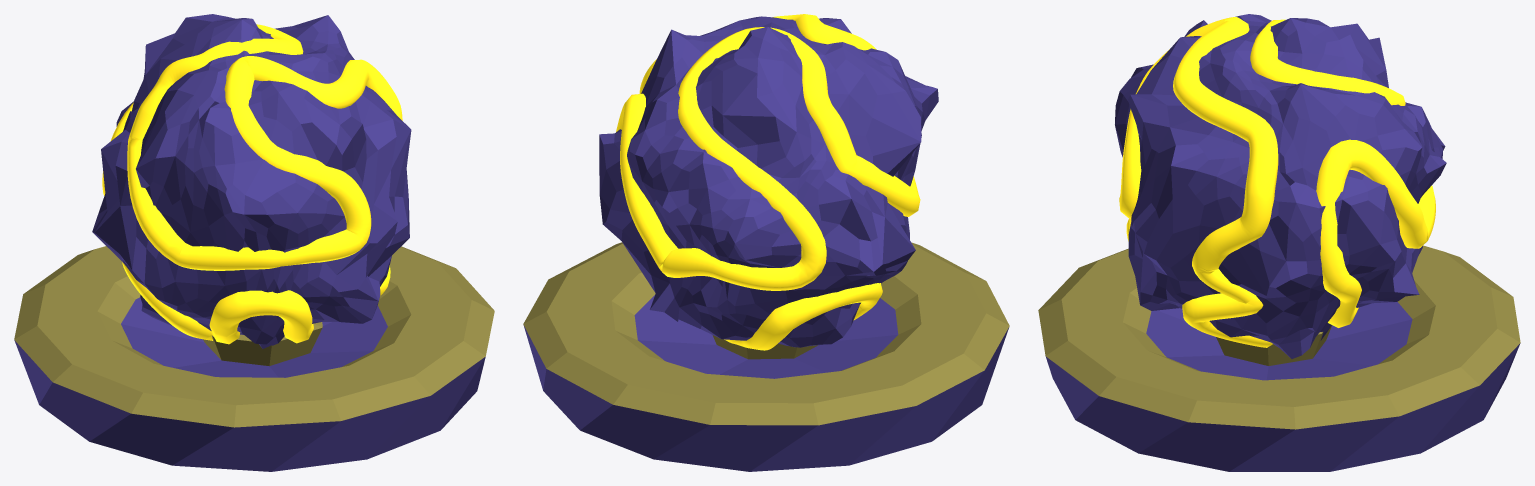
File: elestSource.fbx
3 views of the same model, side by side, from view 1: azimuth 30°, elevation 25°; view 2: azimuth 150°, elevation 25°; view 3: azimuth 270°, elevation 25° (orthographic).
Visible parts, largest first — view 1: Circle.001, GP_Layer; view 2: Circle.001, GP_Layer; view 3: Circle.001, GP_Layer.
Part boxes in pixels (x1,y1,x2,y2): Circle.001: (14, 14, 494, 471); GP_Layer: (102, 24, 402, 344); Circle.001: (523, 16, 1009, 471); GP_Layer: (616, 14, 920, 350); Circle.001: (1038, 14, 1520, 471); GP_Layer: (1119, 17, 1435, 347).
Bounding box in the file's own units: 215 × 174 × 213.
